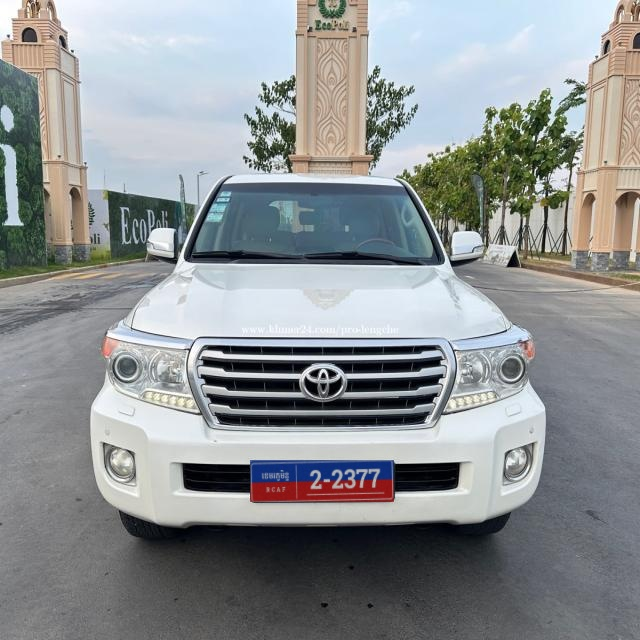Plate Number: (250, 461, 395, 502)
